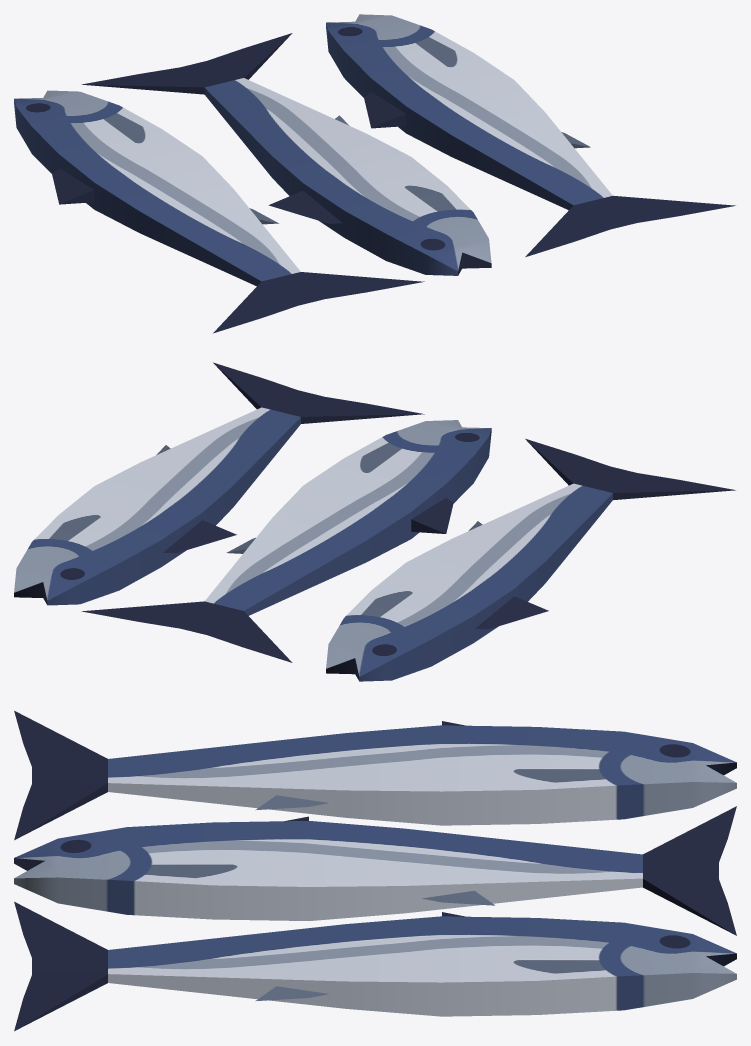
Rendered from anchovies_Slice.glb.
The picture shows the model from 3 angles, top to bottom: view 1: azimuth 30°, elevation 25°; view 2: azimuth 150°, elevation 25°; view 3: azimuth 270°, elevation 25°; orthographic projection. The views are drawn at different scales.
Visible parts, largest first — view 1: anchovies_Slice; view 2: anchovies_Slice; view 3: anchovies_Slice.
Boxes of the visible parts, x1,y1,x2,y2 form: anchovies_Slice: (14, 14, 735, 333); anchovies_Slice: (14, 362, 735, 681); anchovies_Slice: (14, 710, 736, 1031).
Size of the model in its own units: 20.17 by 1 by 19.2.
1 material, 1 textured.
